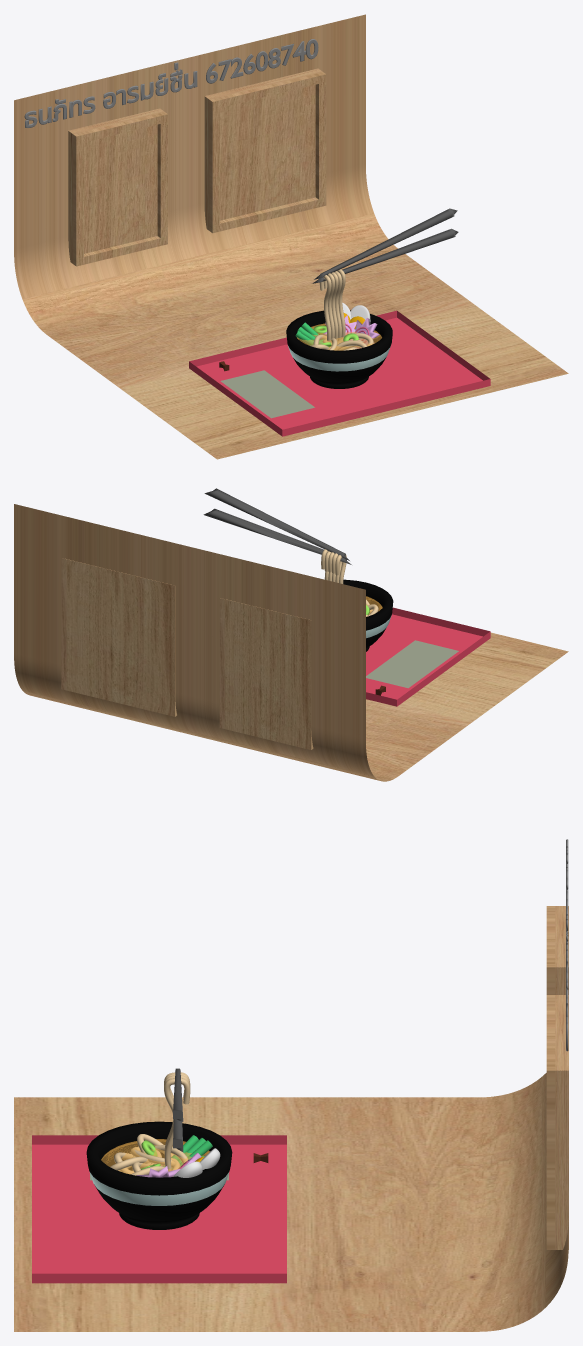
The model's file is All.glb.
The picture shows the model from 3 angles, top to bottom: view 1: azimuth 30°, elevation 25°; view 2: azimuth 150°, elevation 25°; view 3: azimuth 270°, elevation 25°; orthographic projection. The views are drawn at different scales.
Visible parts, largest first — view 1: Plane, Cube.011, Cube, Cube.010, Sphere, Text, Plane.001, Cube.001, Cube.002; view 2: Plane, Cube.011, Cube.010, Cube, Plane.001, Sphere, Cube.001, Cube.002; view 3: Plane, Cube, Sphere, Cube.011, Cube.010, Sphere.001, Torus Knot 2 x 3.001.
Part boxes in pixels (x1,y1,x2,y2): Plane: (14,14,568,459); Cube.011: (204,68,326,233); Cube: (189,310,490,436); Cube.010: (68,108,167,266); Sphere: (286,310,392,388); Text: (24,39,318,127); Plane.001: (220,370,314,418); Cube.001: (314,208,457,279); Cube.002: (312,228,458,283); Plane: (14,504,568,781); Cube.011: (61,558,176,716); Cube.010: (219,598,313,749); Cube: (366,607,490,706); Plane.001: (366,640,458,688); Sphere: (343,579,393,651); Cube.001: (204,488,349,560); Cube.002: (203,508,351,564); Plane: (14,1073,568,1331); Cube: (32,1135,286,1283); Sphere: (86,1121,232,1229); Cube.011: (546,995,568,1249); Cube.010: (546,906,568,994); Sphere.001: (101,1139,209,1174); Torus Knot 2 x 3.001: (130,1134,188,1167).
Bounding box in the file's own units: 7.61 × 4.35 × 7.62.
Materials: 18 (3 with a texture image).
